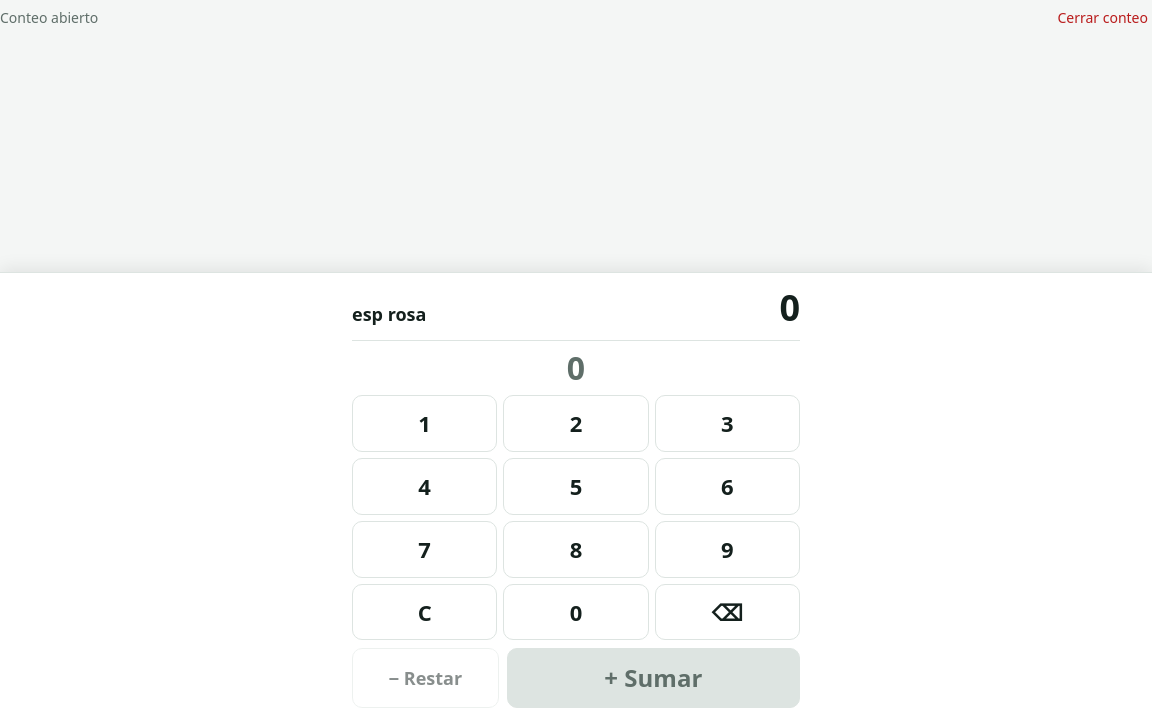
Test case: Conteo · con un conteo abierto (teclado para una mano) › cerrar con total 0 avisa que se cierra como no realizado
What coordinates should you click on to do the following:
click the button "Cerrar conteo"
I would click on:
 (1103, 18)
Its box is [1053,0,1151,36].
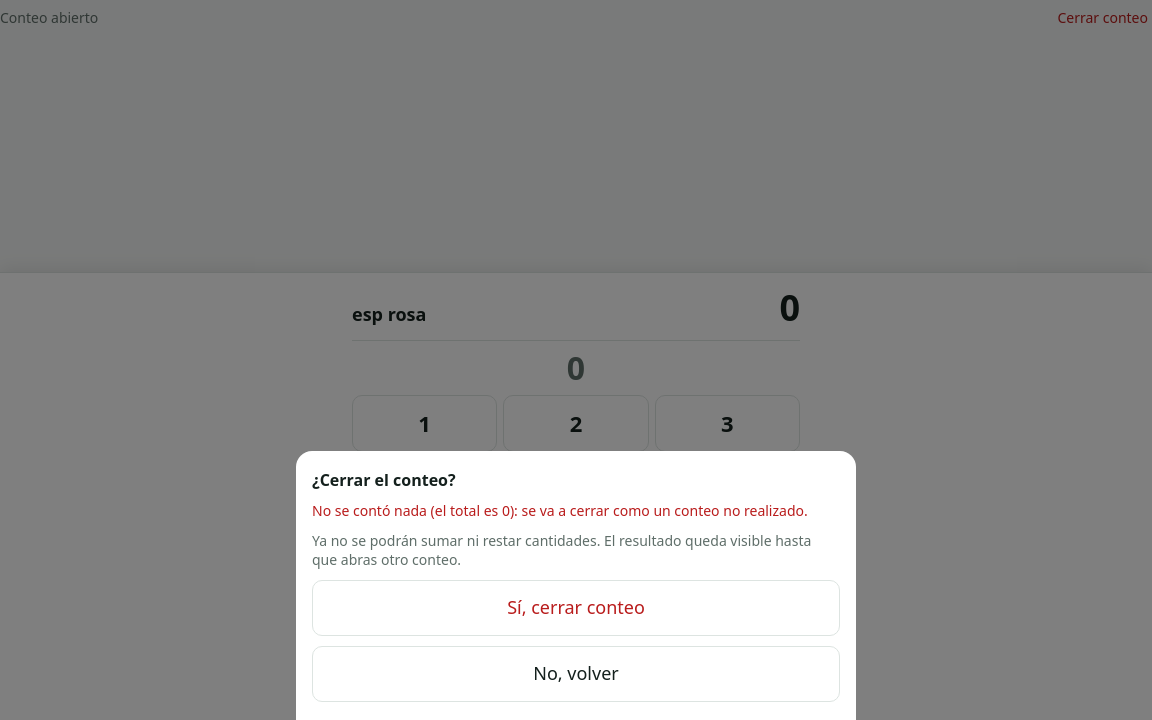
expect the text "No se contó nada" is shown: met, box [312,501,808,520]
